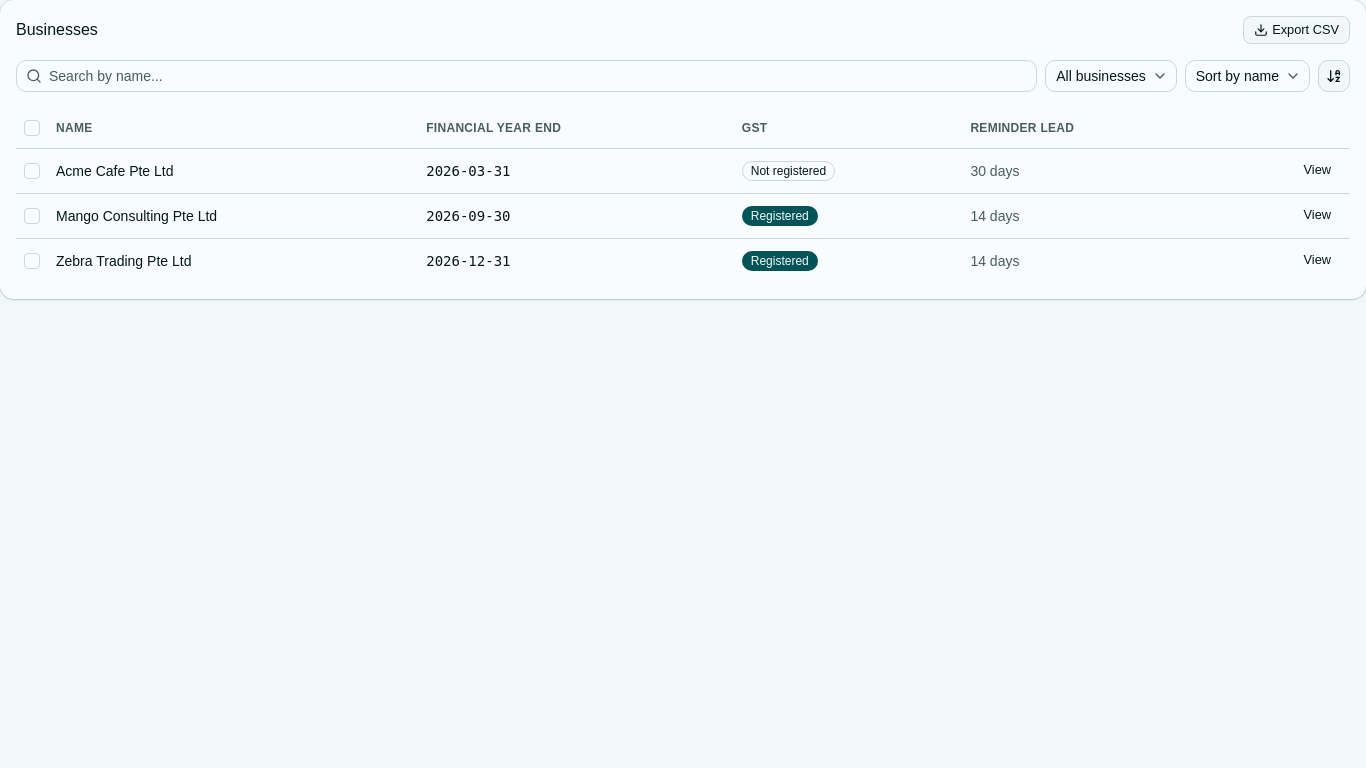
Scenario: BusinessList - bulk select and actions (issue #35) › does not delete immediately - clicking Delete selected opens a confirmation dialog first
Click the checkbox named "Select Acme Cafe Pte Ltd": (32,170) x1=24 y1=162 x2=40 y2=178
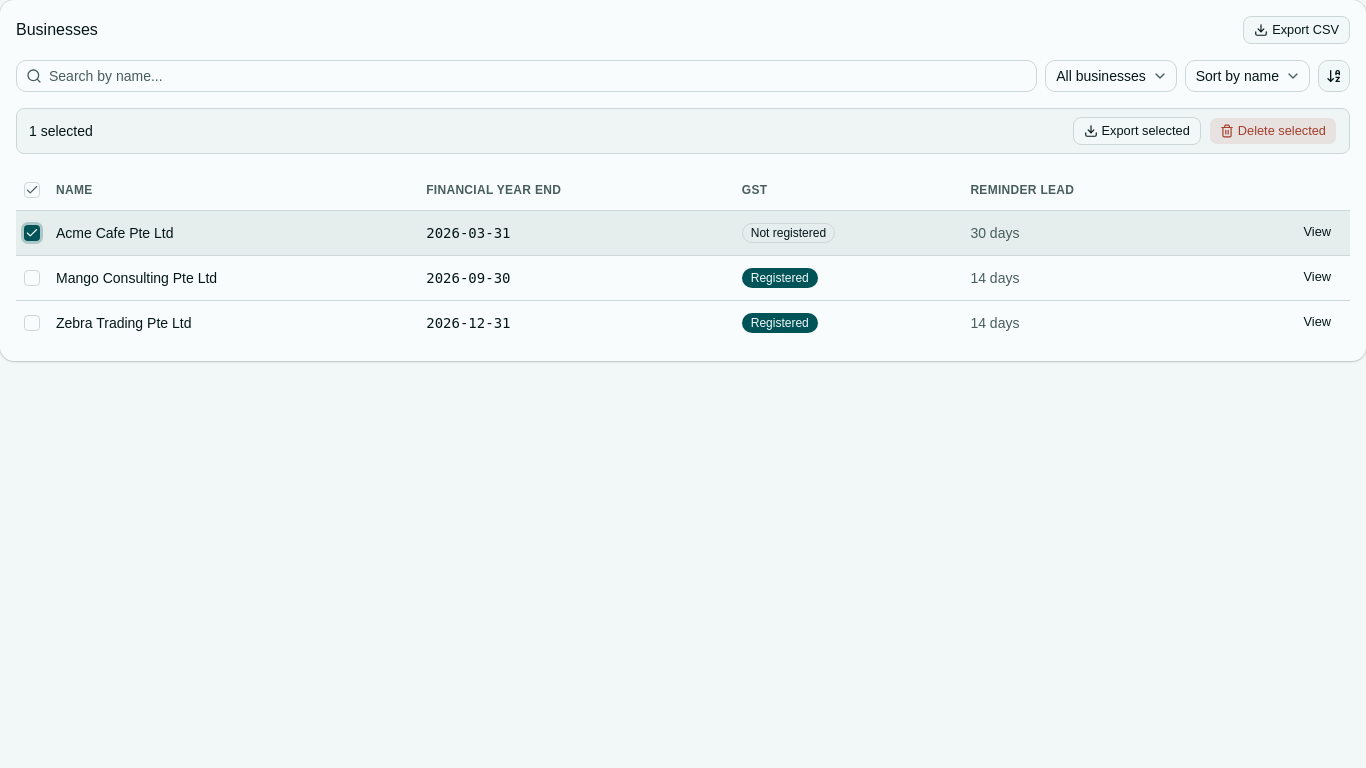
Click the button "Delete selected": (1273,131) x1=1209 y1=117 x2=1337 y2=145
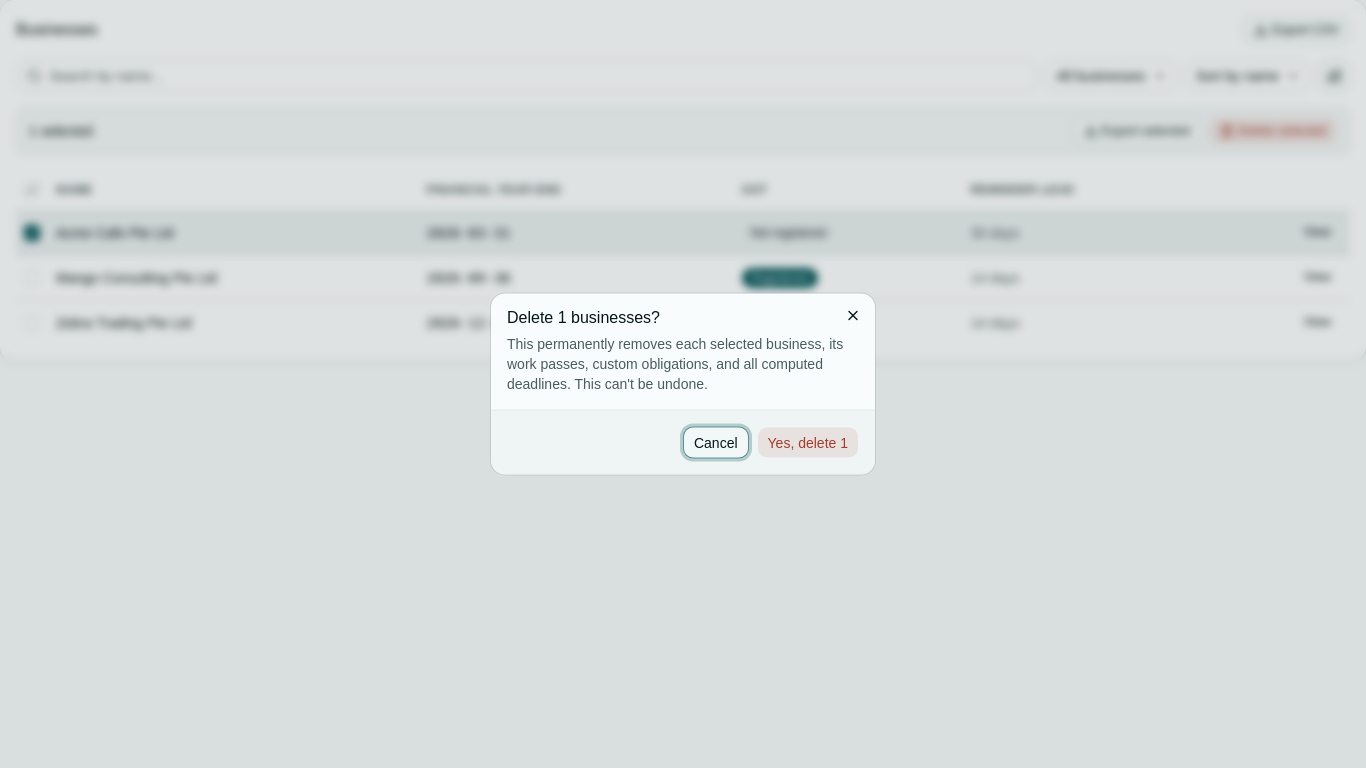
Check: the heading "Delete 1 businesses?" is shown, box x1=507 y1=308 x2=660 y2=326
